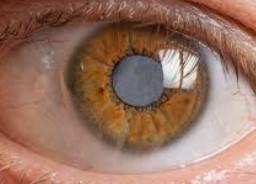eye: (68, 18, 208, 153)
